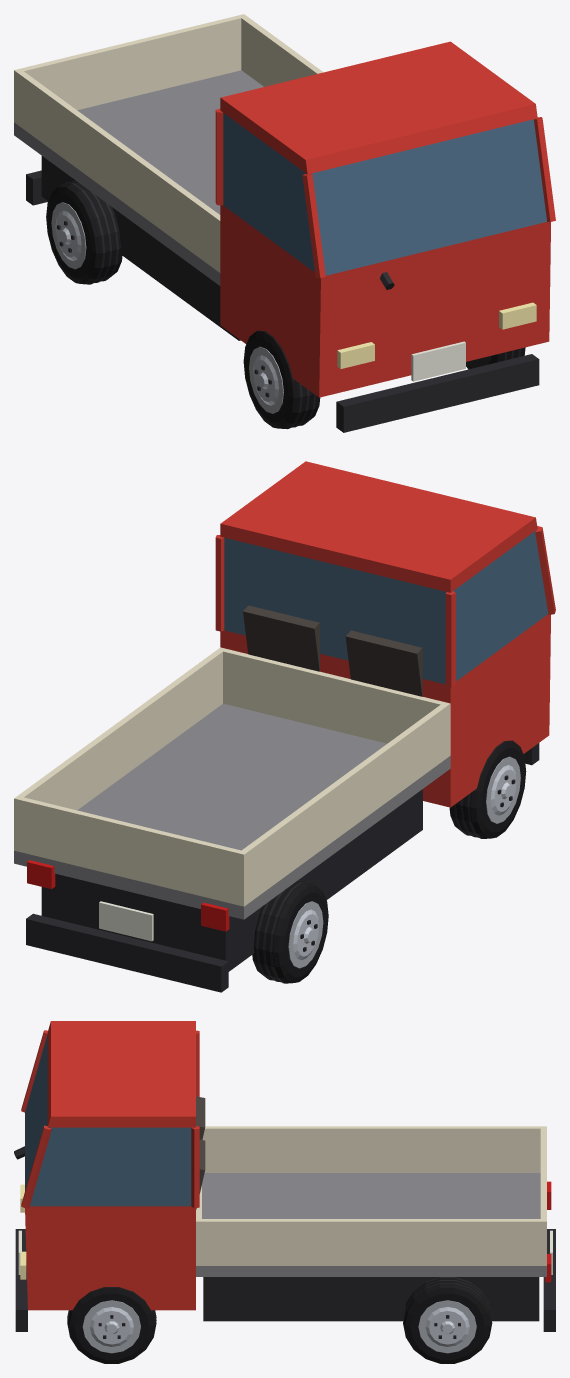
File: vehicle_kei_truck.glb
The picture shows the model from 3 angles, top to bottom: view 1: azimuth 30°, elevation 25°; view 2: azimuth 150°, elevation 25°; view 3: azimuth 270°, elevation 25°; orthographic projection. The views are drawn at different scales.
Parts seen in each view (by area): view 1: kei_truck_body, kei_truck_wheel_rr, kei_truck_wheel_fr, kei_truck_wheel_fl; view 2: kei_truck_body, kei_truck_seats, kei_truck_wheel_rr, kei_truck_wheel_fr; view 3: kei_truck_body, kei_truck_wheel_rl, kei_truck_wheel_fl, kei_truck_seats.
Boxes of the visible parts, bbox=[...] form: kei_truck_body: bbox=[14, 14, 555, 432]; kei_truck_wheel_rr: bbox=[46, 180, 122, 284]; kei_truck_wheel_fr: bbox=[243, 330, 320, 429]; kei_truck_wheel_fl: bbox=[466, 347, 525, 369]; kei_truck_body: bbox=[14, 461, 555, 992]; kei_truck_seats: bbox=[243, 605, 422, 696]; kei_truck_wheel_rr: bbox=[252, 879, 328, 983]; kei_truck_wheel_fr: bbox=[449, 740, 526, 838]; kei_truck_body: bbox=[15, 1021, 555, 1331]; kei_truck_wheel_rl: bbox=[403, 1277, 492, 1363]; kei_truck_wheel_fl: bbox=[67, 1287, 156, 1363]; kei_truck_seats: bbox=[196, 1096, 205, 1209].
Bounding box in the file's own units: 1.59 × 1.8 × 3.55.
